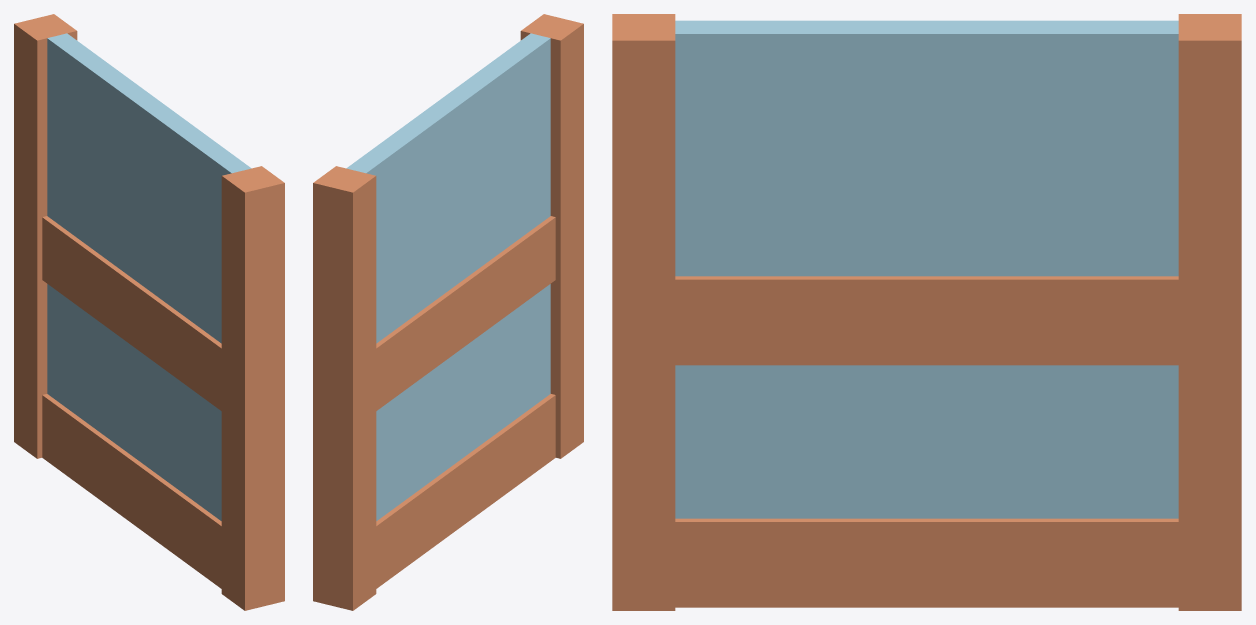
Rendered from wallDetailHorizontal.fbx.
The picture shows the model from 3 angles, left to right: view 1: azimuth 30°, elevation 25°; view 2: azimuth 150°, elevation 25°; view 3: azimuth 270°, elevation 25°; orthographic projection. The views are drawn at different scales.
Parts seen in each view (by area): view 1: wallDetailHorizontal; view 2: wallDetailHorizontal; view 3: wallDetailHorizontal.
Part boxes in pixels (x1,y1,x2,y2): wallDetailHorizontal: [14, 14, 284, 610]; wallDetailHorizontal: [313, 14, 583, 610]; wallDetailHorizontal: [612, 14, 1241, 610].
Bounding box in the file's own units: 1 × 10 × 10.
